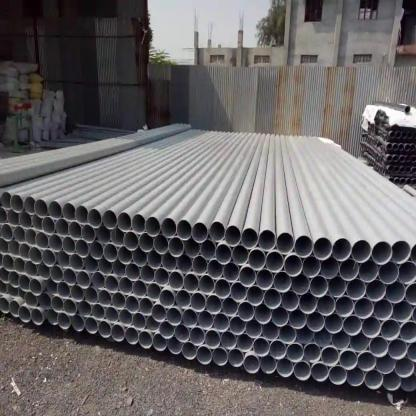PVC: (0, 98, 416, 393)
